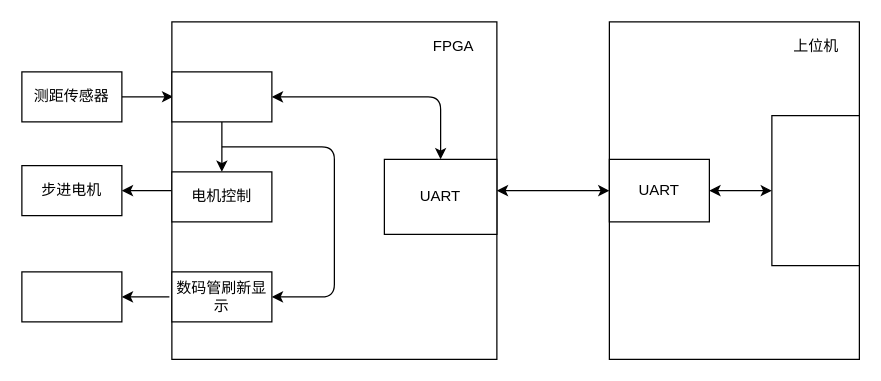
Some shapes in this 881 by 381 pixel diagram are drawn without their labels. The centre of each missing label's shape, as x and y in pixels:
数据库: point (815, 190)
数码管: point (71, 296)
车辆进出状态识别: point (221, 96)
